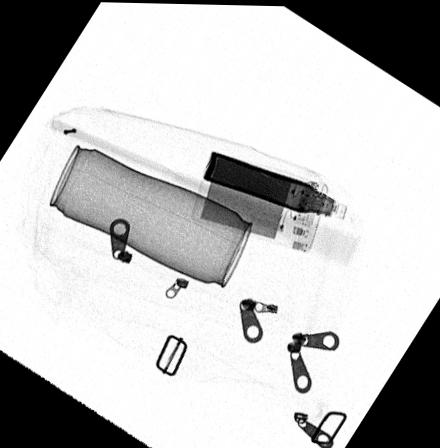Powerbank: (190, 149, 329, 252)
